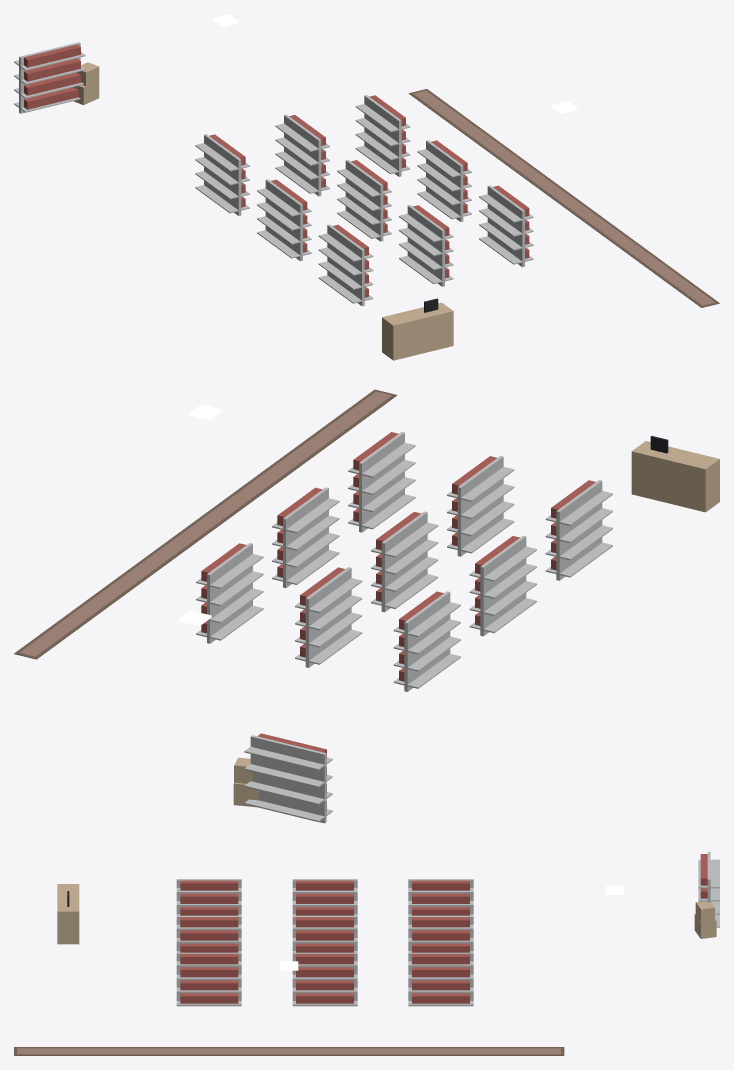
File: fine-s0.glb
3 views of the same model, one above another, from view 1: azimuth 30°, elevation 25°; view 2: azimuth 150°, elevation 25°; view 3: azimuth 270°, elevation 25° (orthographic). The views are drawn at different scales.
Parts seen in each view (by area): view 1: soft-s0, shelving.000, shop-counter.000, shelf.004, shelf.008, shelf.001, shelf.005, shelf.002, shelf.000, shelf.006, shelf.007, shelf.003 (+1 smaller); view 2: soft-s0, shelving.000, shop-counter.000, shelf.000, shelf.004, shelf.002, shelf.005, shelf.008, shelf.007, shelf.003, shelf.001, shelf.006 (+1 smaller); view 3: soft-s0, shelf.006, shelf.008, shelf.007, shelf.003, shelf.004, shelf.005, shelf.000, shelf.001, shelf.002, shop-counter.000, shelving.000 (+1 smaller).
Boxes of the visible parts, x1=… form: soft-s0: x1=409, y1=89, x2=719, y2=307; shelving.000: x1=14, y1=42, x2=85, y2=113; shop-counter.000: x1=382, y1=298, x2=453, y2=360; shelf.004: x1=337, y1=159, x2=391, y2=241; shelf.008: x1=479, y1=185, x2=533, y2=267; shelf.001: x1=257, y1=179, x2=311, y2=261; shelf.005: x1=399, y1=205, x2=453, y2=286; shelf.002: x1=318, y1=224, x2=373, y2=306; shelf.000: x1=195, y1=134, x2=249, y2=215; shelf.006: x1=355, y1=95, x2=410, y2=176; shelf.007: x1=417, y1=140, x2=471, y2=221; shelf.003: x1=275, y1=114, x2=329, y2=196; soft-s0: x1=14, y1=389, x2=397, y2=659; shelving.000: x1=244, y1=733, x2=332, y2=823; shop-counter.000: x1=631, y1=436, x2=719, y2=512; shelf.000: x1=393, y1=591, x2=460, y2=691; shelf.004: x1=371, y1=511, x2=438, y2=612; shelf.002: x1=545, y1=480, x2=612, y2=580; shelf.005: x1=447, y1=456, x2=514, y2=556; shelf.008: x1=348, y1=431, x2=415, y2=532; shelf.007: x1=272, y1=487, x2=339, y2=588; shelf.003: x1=295, y1=567, x2=362, y2=667; shelf.001: x1=469, y1=535, x2=536, y2=636; shelf.006: x1=196, y1=543, x2=263, y2=643; soft-s0: x1=14, y1=1047, x2=564, y2=1055; shelf.006: x1=408, y1=952, x2=473, y2=1006; shelf.008: x1=176, y1=952, x2=241, y2=1006; shelf.007: x1=292, y1=952, x2=357, y2=1006; shelf.003: x1=408, y1=915, x2=473, y2=952; shelf.004: x1=292, y1=915, x2=357, y2=952; shelf.005: x1=176, y1=915, x2=241, y2=952; shelf.000: x1=408, y1=879, x2=473, y2=915; shelf.001: x1=292, y1=879, x2=357, y2=915; shelf.002: x1=176, y1=879, x2=241, y2=915; shop-counter.000: x1=57, y1=884, x2=79, y2=944; shelving.000: x1=698, y1=852, x2=719, y2=927.
Size of the model in its own units: 9.88 by 2.64 by 19.49.
